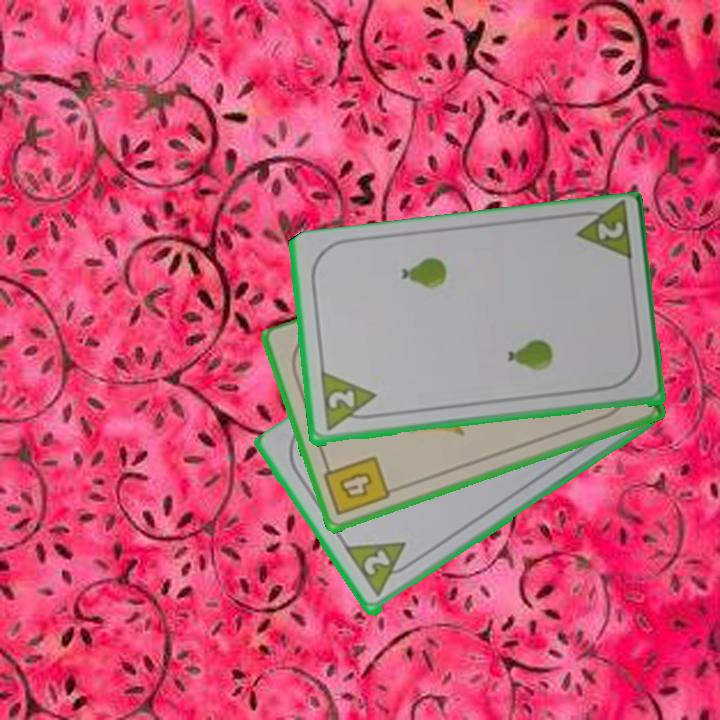2p: (568, 202, 635, 267), (316, 370, 381, 435), (359, 546, 393, 579)
4b: (320, 453, 393, 519)
